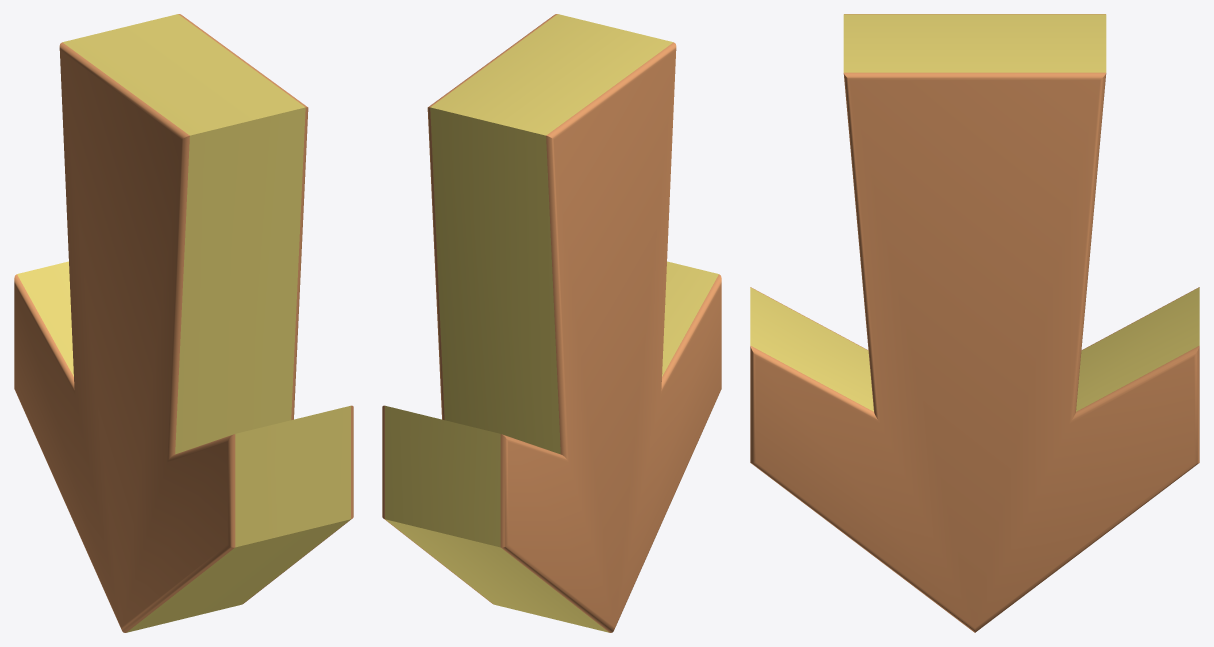
The model's file is Arrow.fbx.
3 views of the same model, side by side, from view 1: azimuth 30°, elevation 25°; view 2: azimuth 150°, elevation 25°; view 3: azimuth 270°, elevation 25° (orthographic). The views are drawn at different scales.
Visible parts, largest first — view 1: Arrow; view 2: Arrow; view 3: Arrow.
Boxes of the visible parts, x1,y1,x2,y2 form: Arrow: (14, 14, 353, 632); Arrow: (382, 14, 721, 632); Arrow: (750, 14, 1199, 632).
Bounding box in the file's own units: 0.4828 × 2 × 1.45.
